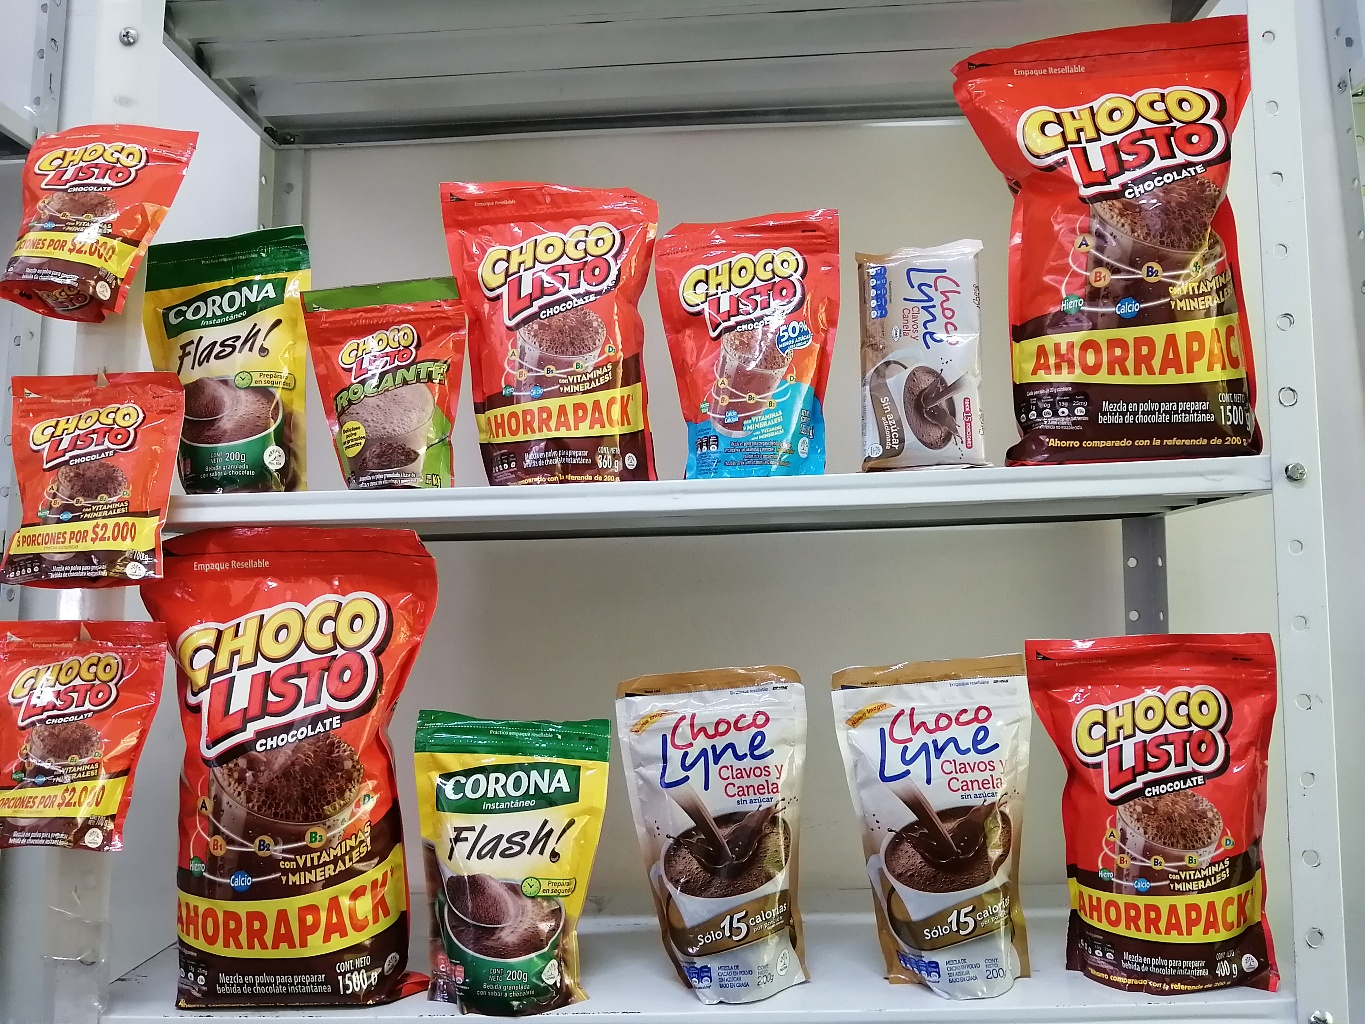COL0170102DYP10000: (301, 267, 463, 486)
COL0170103DYP1,500: (953, 11, 1284, 463)
COL0170103DYP10000: (14, 97, 208, 323)
COL0170103DYP36000: (438, 159, 676, 498)
COL0170103DYP40000: (1022, 631, 1294, 997)
COL0170104DYP20000: (659, 208, 856, 478)
